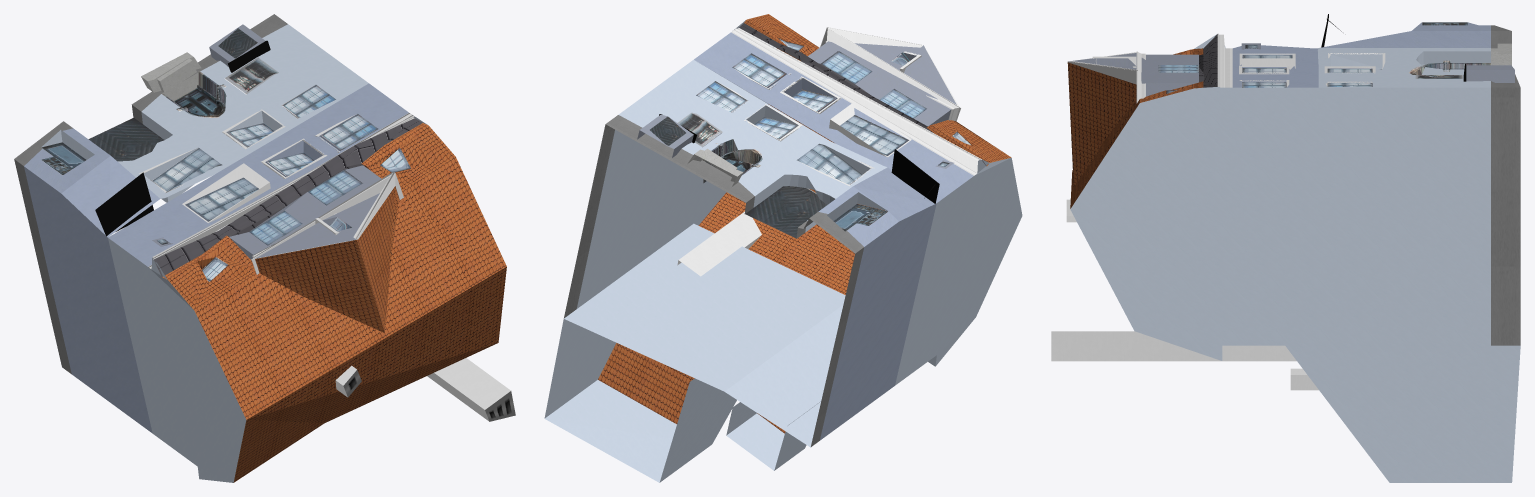
Rendered from Dunkri_9-origo.obj.
3 views of the same model, side by side, from view 1: azimuth 30°, elevation 25°; view 2: azimuth 150°, elevation 25°; view 3: azimuth 270°, elevation 25° (orthographic). The views are drawn at different scales.
Parts seen in each view (by area): view 1: Dunkri_9; view 2: Dunkri_9; view 3: Dunkri_9.
Part boxes in pixels (left/top/right/bottom): Dunkri_9: left=14, top=14, right=515, bottom=482; Dunkri_9: left=544, top=14, right=1022, bottom=482; Dunkri_9: left=1051, top=14, right=1520, bottom=482.
Bounding box in the file's own units: 13.69 × 14.5 × 15.4.
